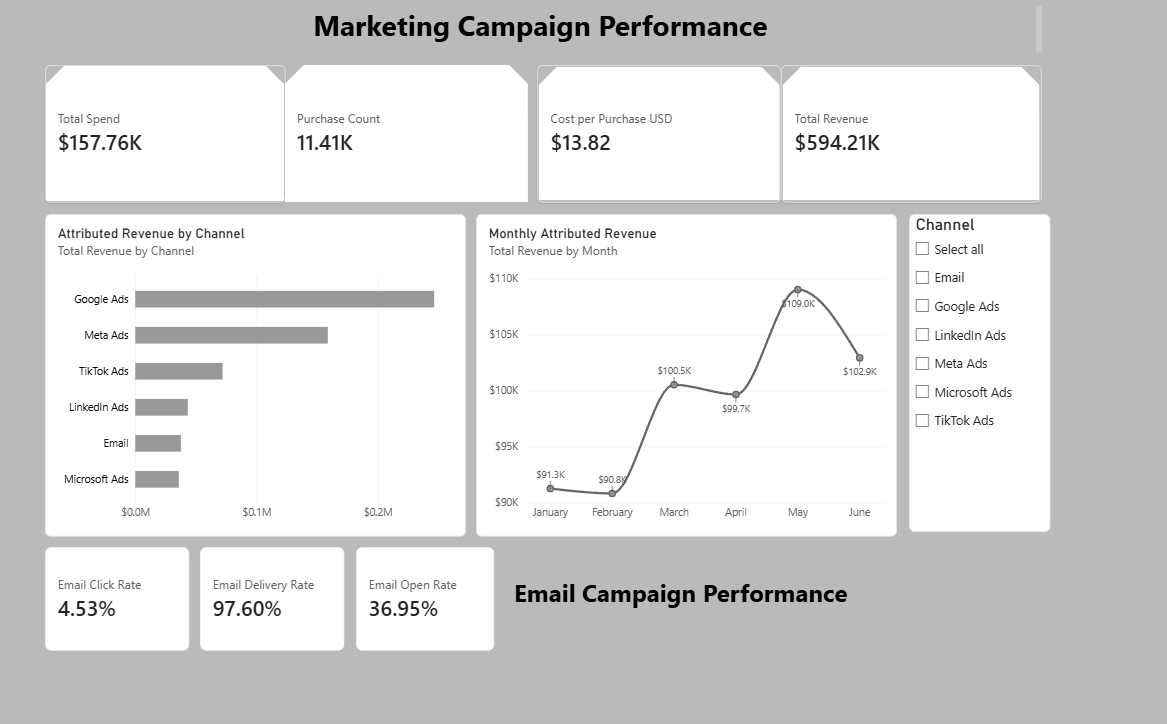

Layout of this report page (visuals, bound fields, positions):
{"tool":"powerbi","page":{"name":"Campaign Overview","canvas":[1920,1080],"ordinal":0},"visuals":[{"type":"cardVisual","fields":{"Data":["CampaignData.Total Spend"]},"box":[336.8,97.9,319.5,182.8],"z":0},{"type":"cardVisual","fields":{"Data":["CampaignData.Purchase Count"]},"box":[656.3,97.9,323.8,182.8],"z":1000},{"type":"cardVisual","fields":{"Data":["CampaignData.Total Revenue"]},"box":[1315.5,97.9,346.9,182.8],"z":2000},{"type":"cardVisual","fields":{"Data":["CampaignData.Cost per Purchase USD"]},"box":[990.2,97.9,325.3,182.8],"z":3000},{"type":"clusteredBarChart","title":"Attributed Revenue by Channel","fields":{"Category":["CampaignData.Channel"],"Y":["CampaignData.Total Revenue"]},"box":[336.8,296.5,560.2,428.9],"z":4000},{"type":"lineChart","title":"Monthly Attributed Revenue","fields":{"Category":["CampaignData.Date.Variation.Date Hierarchy.Year","CampaignData.Date.Variation.Date Hierarchy.Quarter","CampaignData.Date.Variation.Date Hierarchy.Month","CampaignData.Date.Variation.Date Hierarchy.Day"],"Y":["CampaignData.Total Revenue"]},"box":[909.6,296.5,560.2,428.9],"z":5000},{"type":"slicer","title":"Channel","fields":{"Values":["CampaignData.Channel"]},"box":[1485.3,296.5,188.2,423.1],"z":6000},{"type":"textbox","box":[336.8,20.1,1325.6,64.8],"z":7000},{"type":"cardVisual","fields":{"Data":["CampaignData.Email Click Rate"]},"box":[336.8,739.8,192.9,138.2],"z":8000},{"type":"cardVisual","fields":{"Data":["CampaignData.Email Delivery Rate"]},"box":[542.6,739.8,192.9,138.2],"z":9000},{"type":"cardVisual","fields":{"Data":["CampaignData.Email Open Rate"]},"box":[749.9,739.8,184.2,138.2],"z":10000},{"type":"textbox","box":[960,778.7,712.4,50.4],"z":11000}]}

Visuals, with their boxes on the page's 1920x1080 design canvas (x1, y1, x2, y2). These are canvas units, not pixel positions in the 1167x724 screenshot, which may show the page scaled, cropped or inside an application window:
cardVisual - CampaignData.Total Spend: x1=337, y1=98, x2=656, y2=281
cardVisual - CampaignData.Purchase Count: x1=656, y1=98, x2=980, y2=281
cardVisual - CampaignData.Total Revenue: x1=1316, y1=98, x2=1662, y2=281
cardVisual - CampaignData.Cost per Purchase USD: x1=990, y1=98, x2=1316, y2=281
"Attributed Revenue by Channel" clusteredBarChart: x1=337, y1=296, x2=897, y2=725
"Monthly Attributed Revenue" lineChart: x1=910, y1=296, x2=1470, y2=725
"Channel" slicer: x1=1485, y1=296, x2=1674, y2=720
textbox: x1=337, y1=20, x2=1662, y2=85
cardVisual - CampaignData.Email Click Rate: x1=337, y1=740, x2=530, y2=878
cardVisual - CampaignData.Email Delivery Rate: x1=543, y1=740, x2=736, y2=878
cardVisual - CampaignData.Email Open Rate: x1=750, y1=740, x2=934, y2=878
textbox: x1=960, y1=779, x2=1672, y2=829
